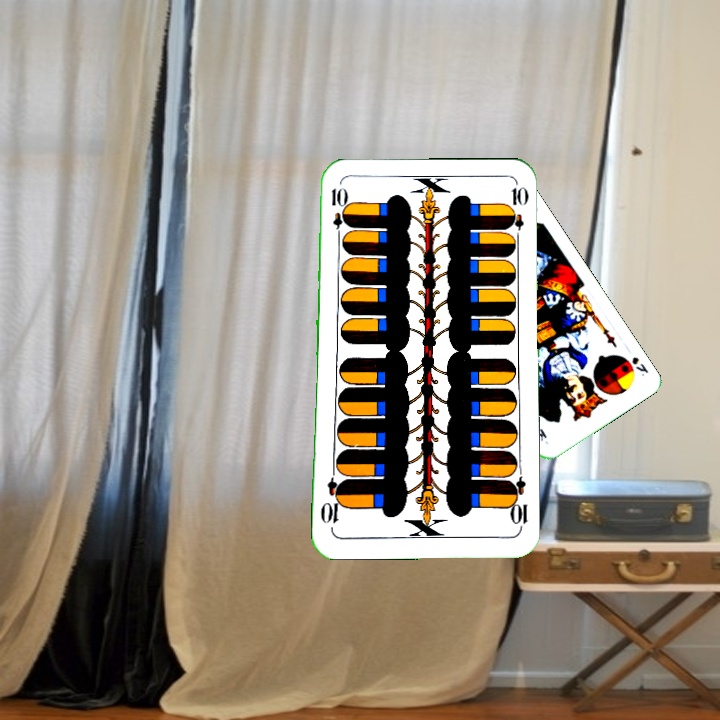E10: (504, 473, 530, 532), (328, 184, 344, 243)
SK: (628, 352, 651, 379)
